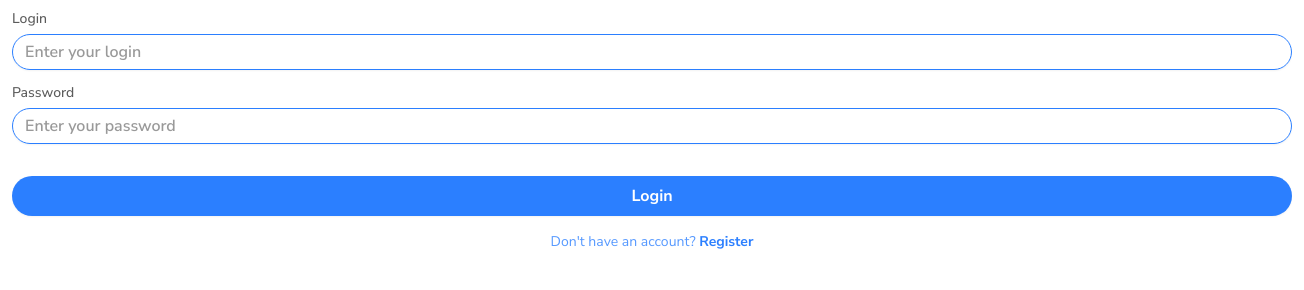
Test case: LoginForm › should show validation error for short login
Type "ab" into the field labelled "Login" at [652, 52], box left=12, top=34, right=1292, bottom=70
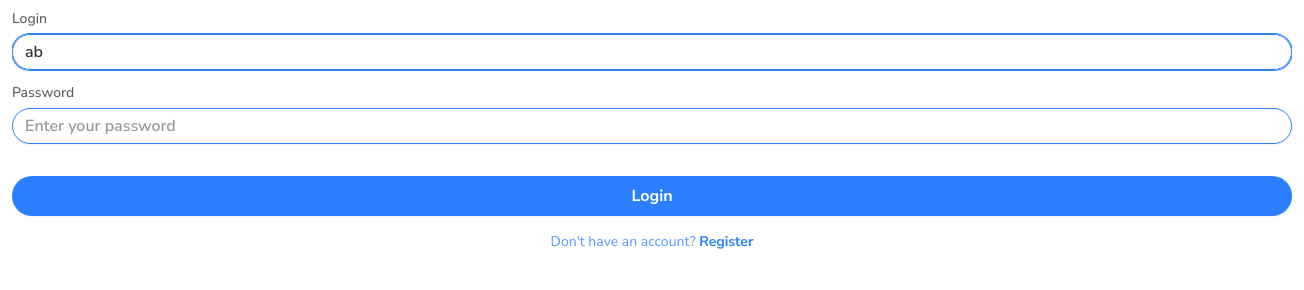
Press Tab
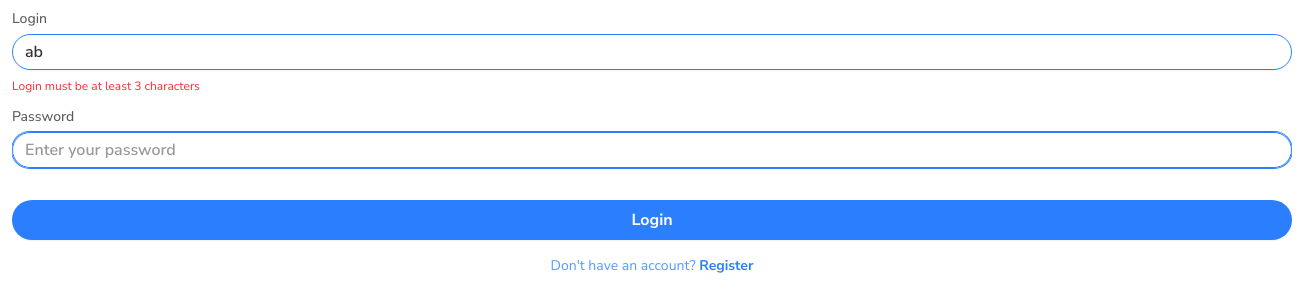
expect the text "Login must be at least 3 characters" is shown: met, box left=12, top=78, right=200, bottom=94
